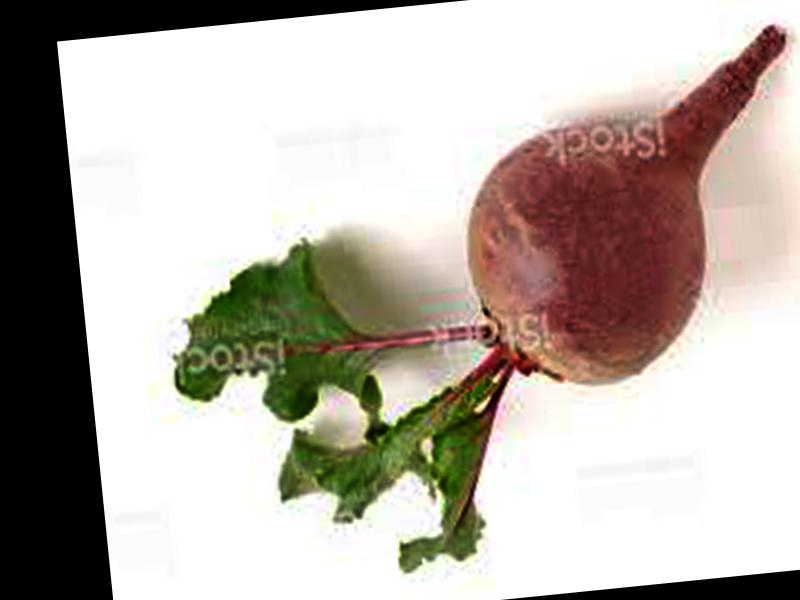Beet: (143, 27, 800, 594)
